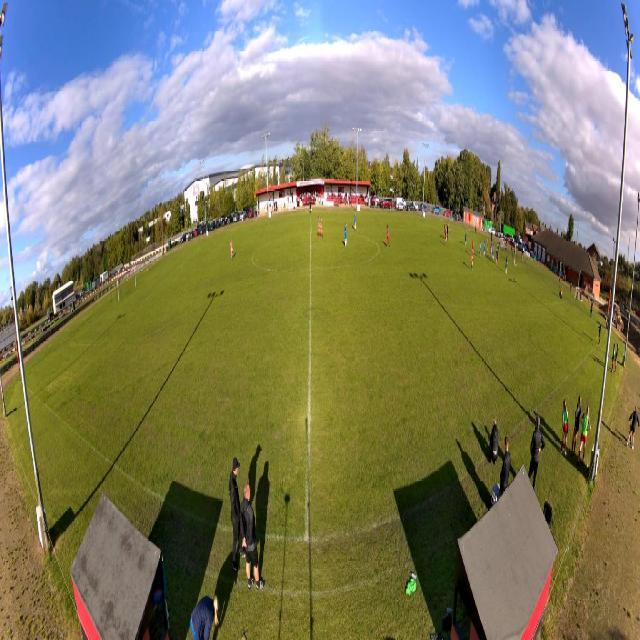player: (386, 223, 391, 248), (344, 222, 348, 248), (319, 215, 323, 239), (230, 237, 234, 261), (317, 216, 321, 238), (471, 249, 475, 271), (504, 256, 508, 275), (496, 247, 499, 267), (354, 212, 357, 231), (447, 222, 450, 241), (472, 238, 475, 257), (479, 240, 482, 259), (465, 229, 468, 247), (483, 240, 486, 258), (489, 243, 492, 260), (493, 242, 495, 261), (486, 237, 488, 255), (492, 246, 494, 264), (444, 224, 446, 241), (445, 230, 447, 247), (498, 239, 500, 255), (445, 224, 447, 233)
